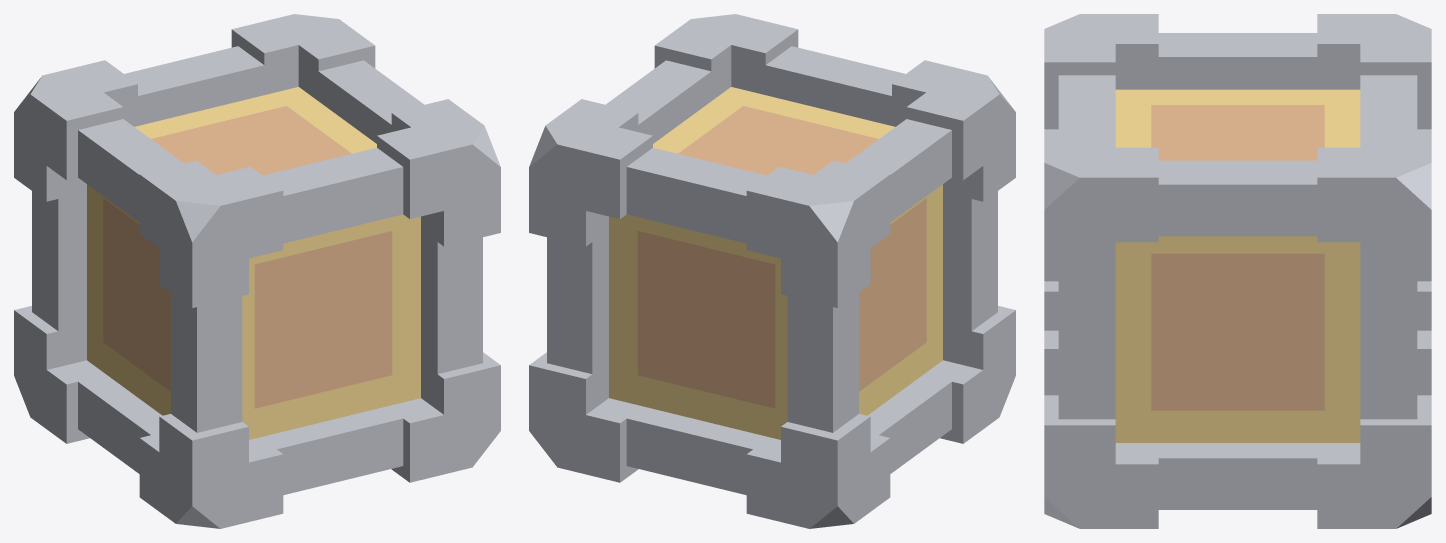
3 renders of one model, left to right at view 1: azimuth 30°, elevation 25°; view 2: azimuth 150°, elevation 25°; view 3: azimuth 270°, elevation 25°, orthographic. The views are drawn at different scales.
Visible parts, largest first — view 1: crateItemStrong; view 2: crateItemStrong; view 3: crateItemStrong.
Part boxes in pixels (x1=…): crateItemStrong: x1=14, y1=14, x2=500, y2=528; crateItemStrong: x1=529, y1=14, x2=1015, y2=528; crateItemStrong: x1=1044, y1=14, x2=1431, y2=528.
Size of the model in its own units: 0.54 by 0.54 by 0.54.
